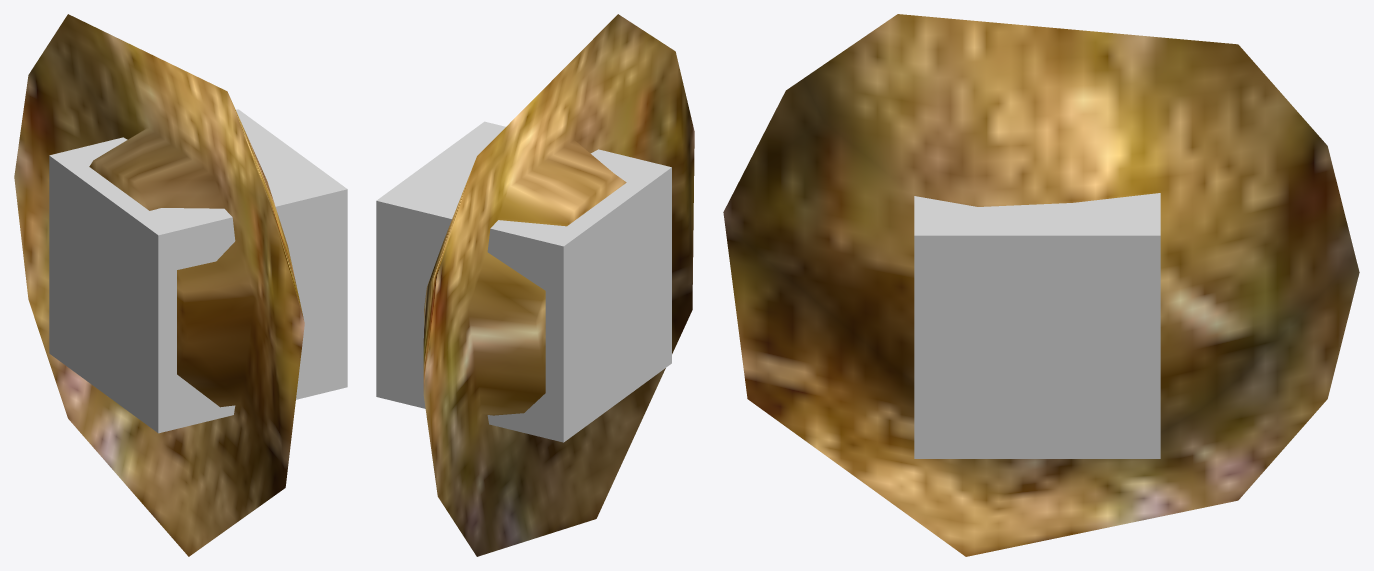
The model's file is space-cassini-huygens.glb.
The picture shows the model from 3 angles, left to right: view 1: azimuth 30°, elevation 25°; view 2: azimuth 150°, elevation 25°; view 3: azimuth 270°, elevation 25°; orthographic projection. The views are drawn at different scales.
Visible parts, largest first — view 1: foil_gold_h, _root; view 2: foil_gold_h, _root; view 3: foil_gold_h, _root.
Boxes of the visible parts, left/top/right/bottom form: foil_gold_h: left=14, top=14, right=304, bottom=556; _root: left=49, top=109, right=347, bottom=433; foil_gold_h: left=423, top=14, right=694, bottom=556; _root: left=376, top=121, right=671, bottom=442; foil_gold_h: left=723, top=14, right=1359, bottom=556; _root: left=914, top=193, right=1160, bottom=458.
Size of the model in its own units: 1 by 2.45 by 2.58.
Materials: 2 (1 with a texture image).
